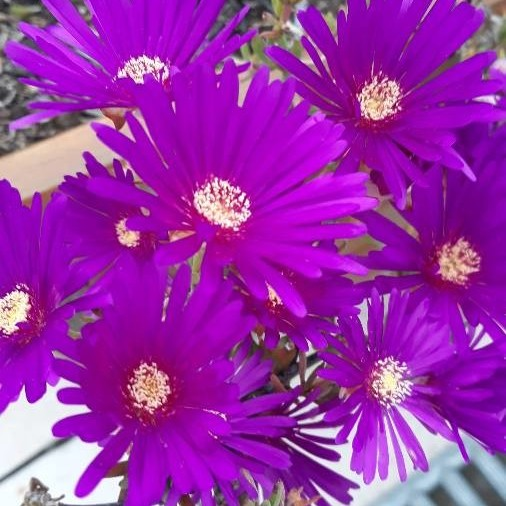obstacle: (52, 59, 444, 476)
